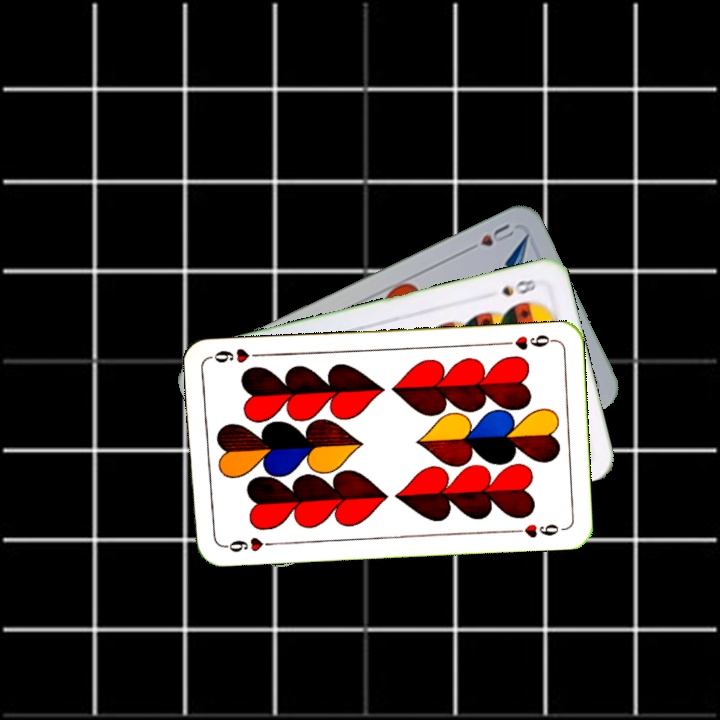H9: (498, 330, 557, 352), (218, 533, 277, 555)
HU: (461, 220, 517, 255)
S8: (497, 275, 539, 299)
